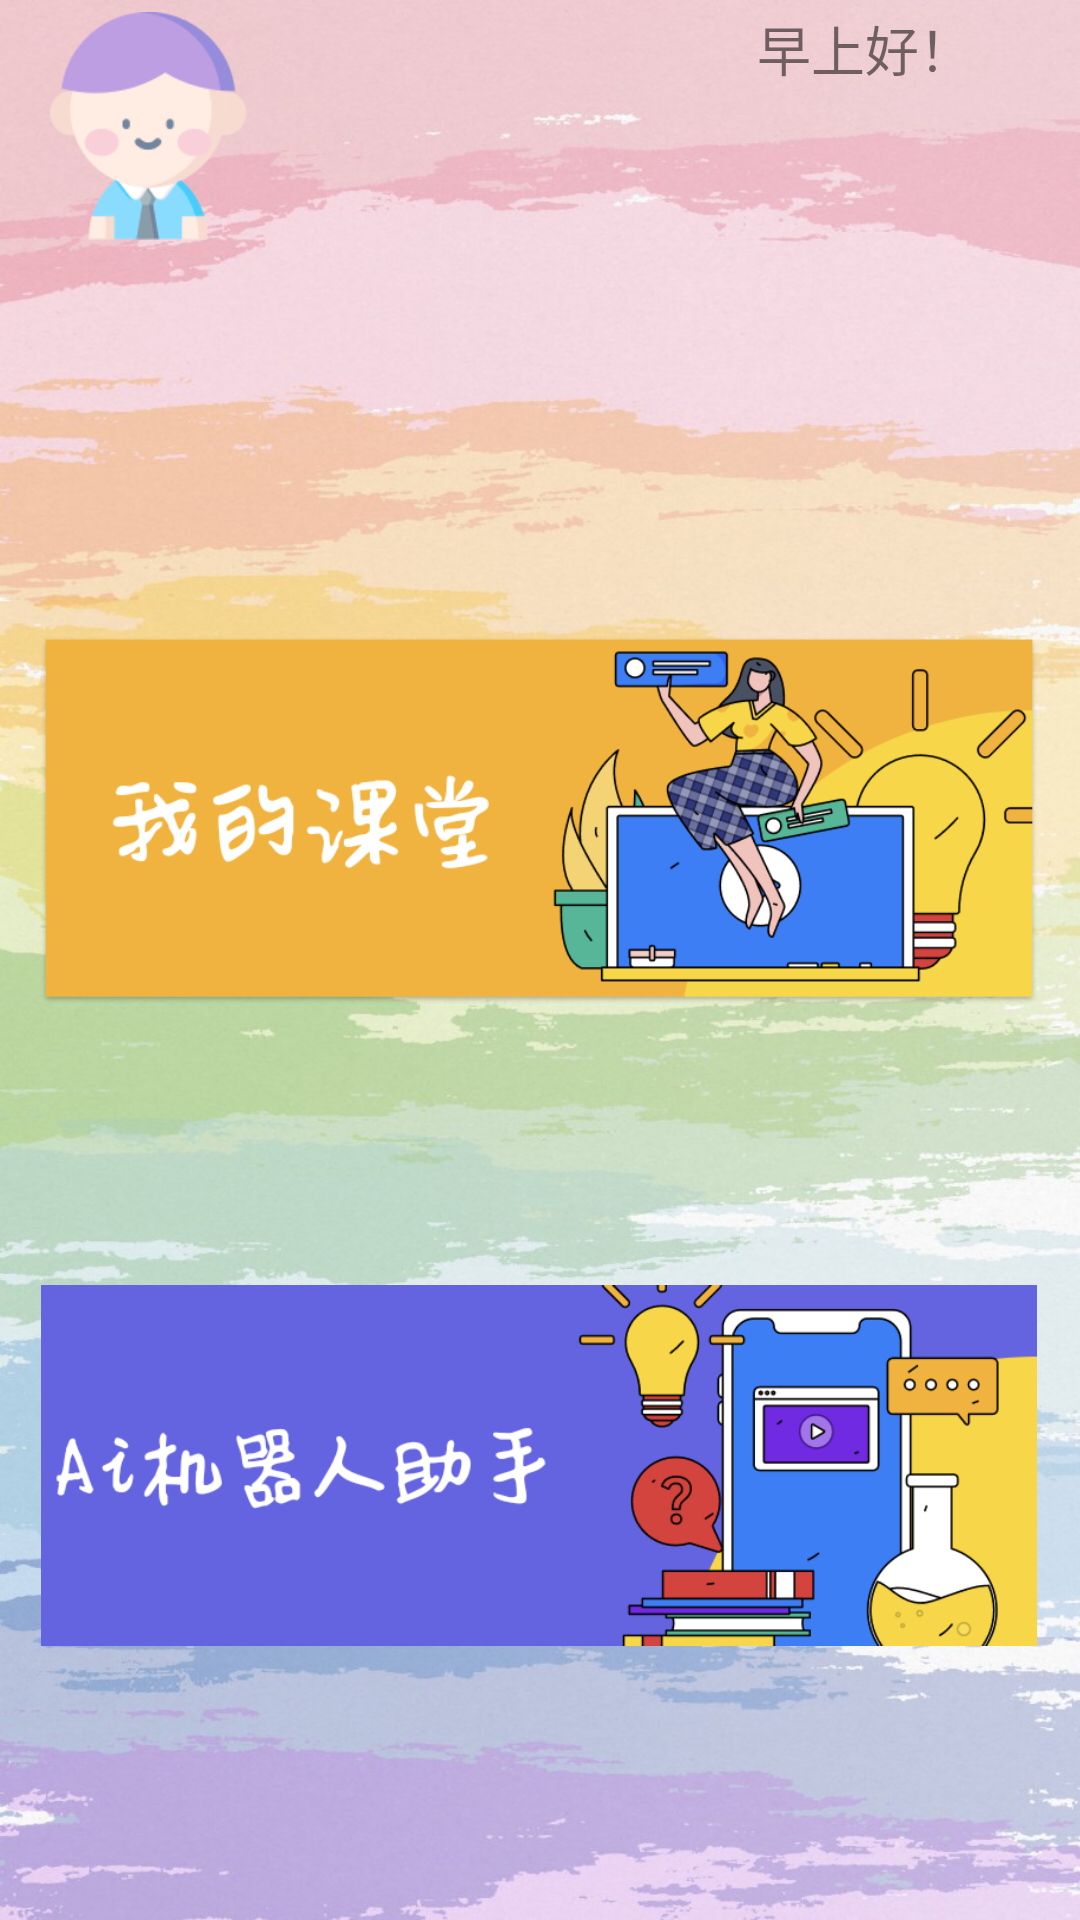

Icons on this 1080×1920 Android screen, each with the point to tap as point (x, y):
user: point (140, 126)
